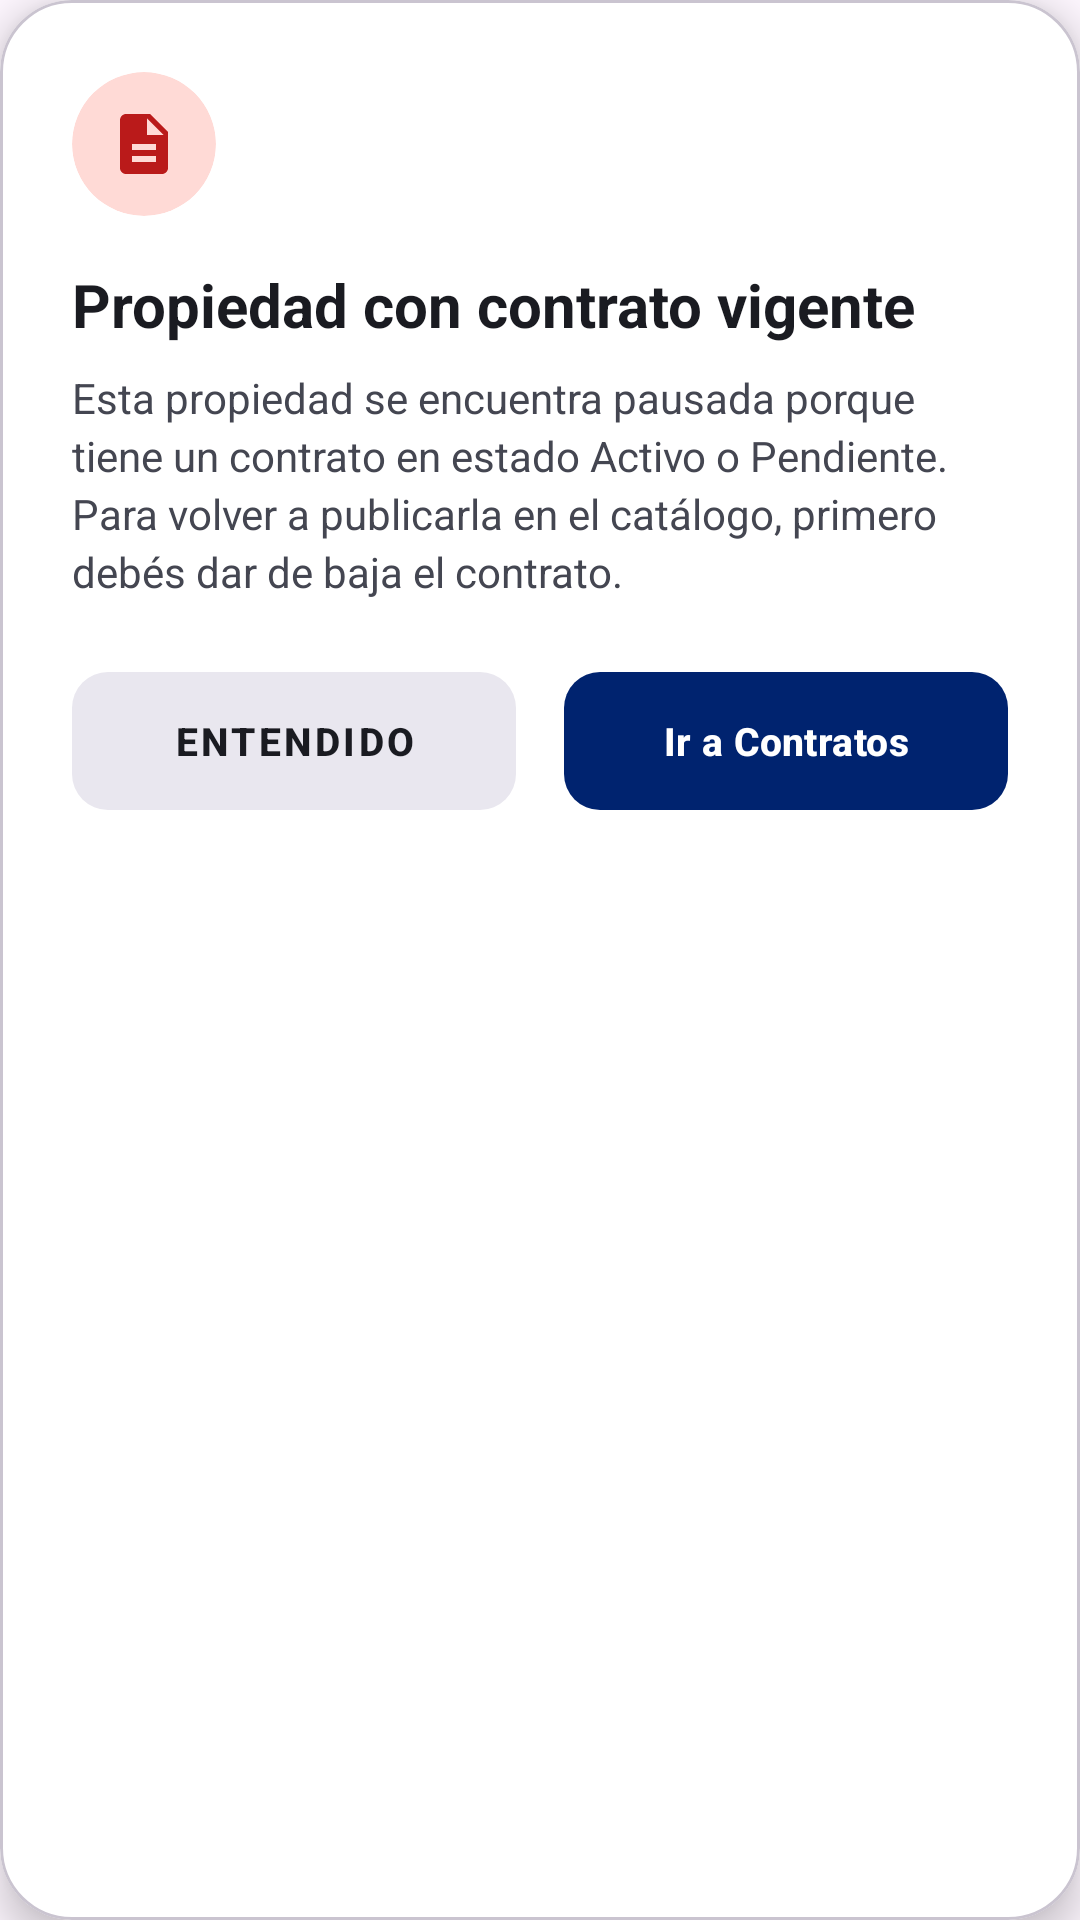

Point at icon controls on the screen. Image size 1080x1920, points as [x,y].
contratos: [144,144]
